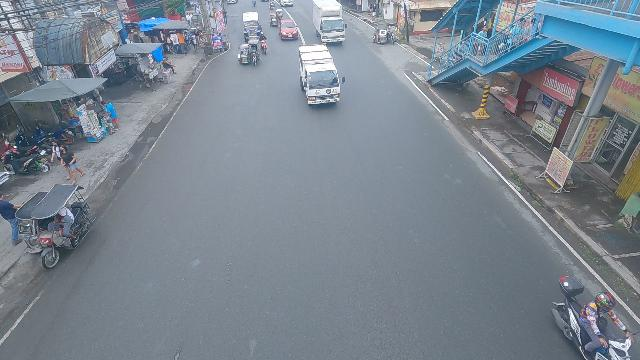car: (278, 19, 300, 41)
jeepney: (242, 11, 262, 42)
motorcycle: (548, 275, 635, 360), (259, 36, 269, 55), (269, 0, 275, 9)
truck: (311, 0, 347, 44)
van: (298, 44, 342, 109)
